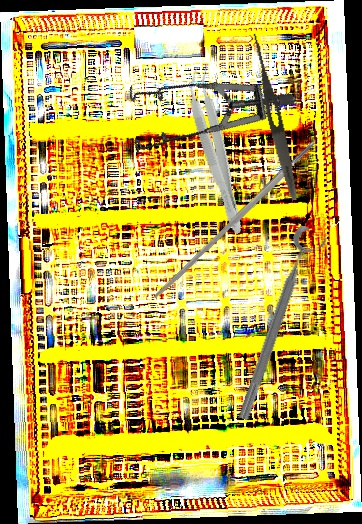Dressing Forceps: (245, 31, 303, 202)
Fixation Ring: (232, 223, 330, 427)
Scalpel Handle: (152, 140, 318, 301)
Speculum: (106, 31, 298, 205)
Tissue Forceps: (179, 64, 256, 237)
